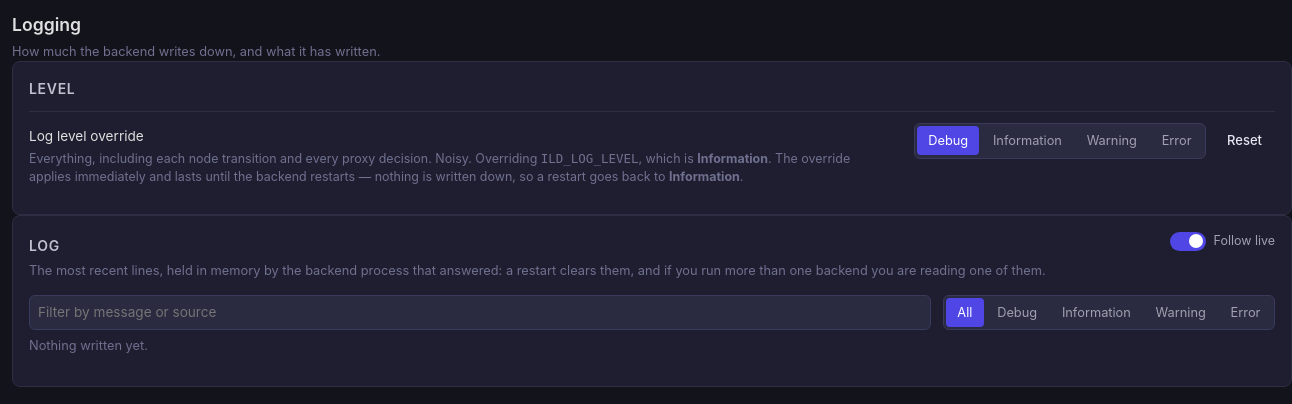
Test case: Logging settings level › Reset puts the level back to the startup one
Click the button "Reset" at (1244, 141), box [1214,125,1275,157]
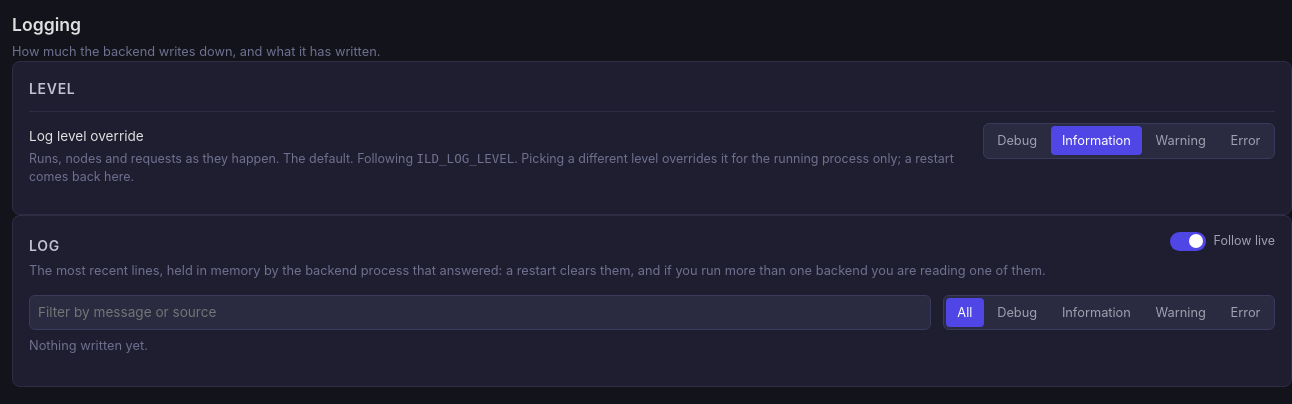
Result: the button "Reset" is gone
